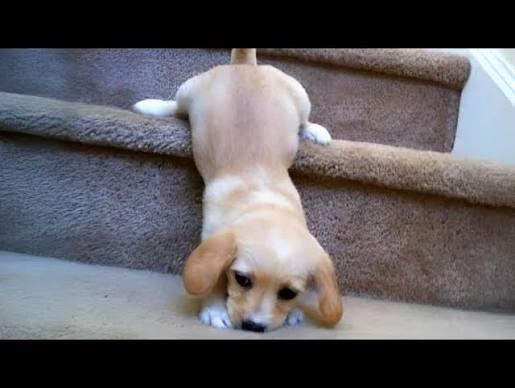puppy-dog: (135, 48, 342, 333)
